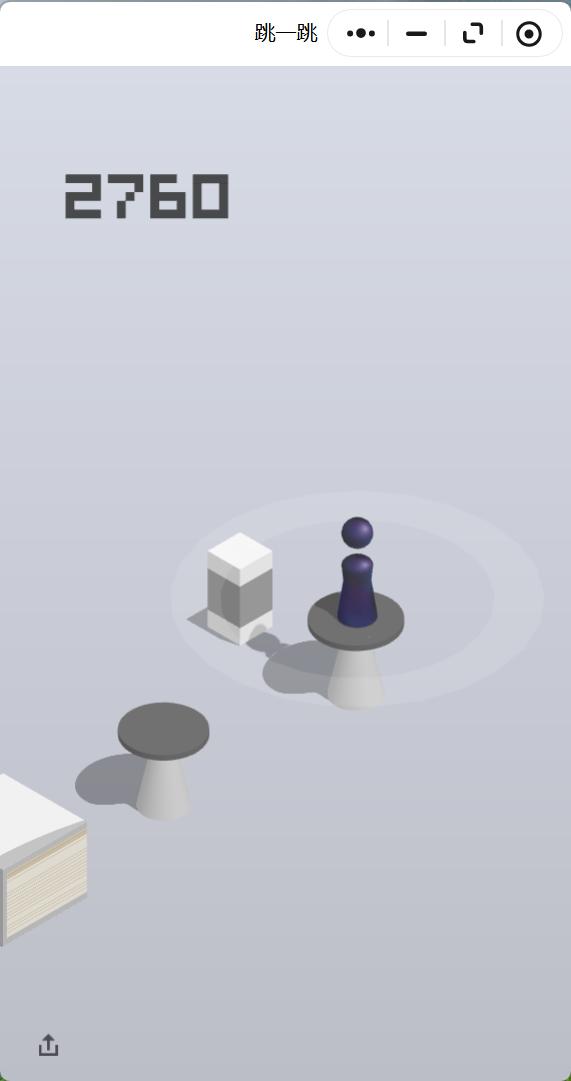piece: (341, 517, 373, 625)
target: (209, 531, 273, 570)
